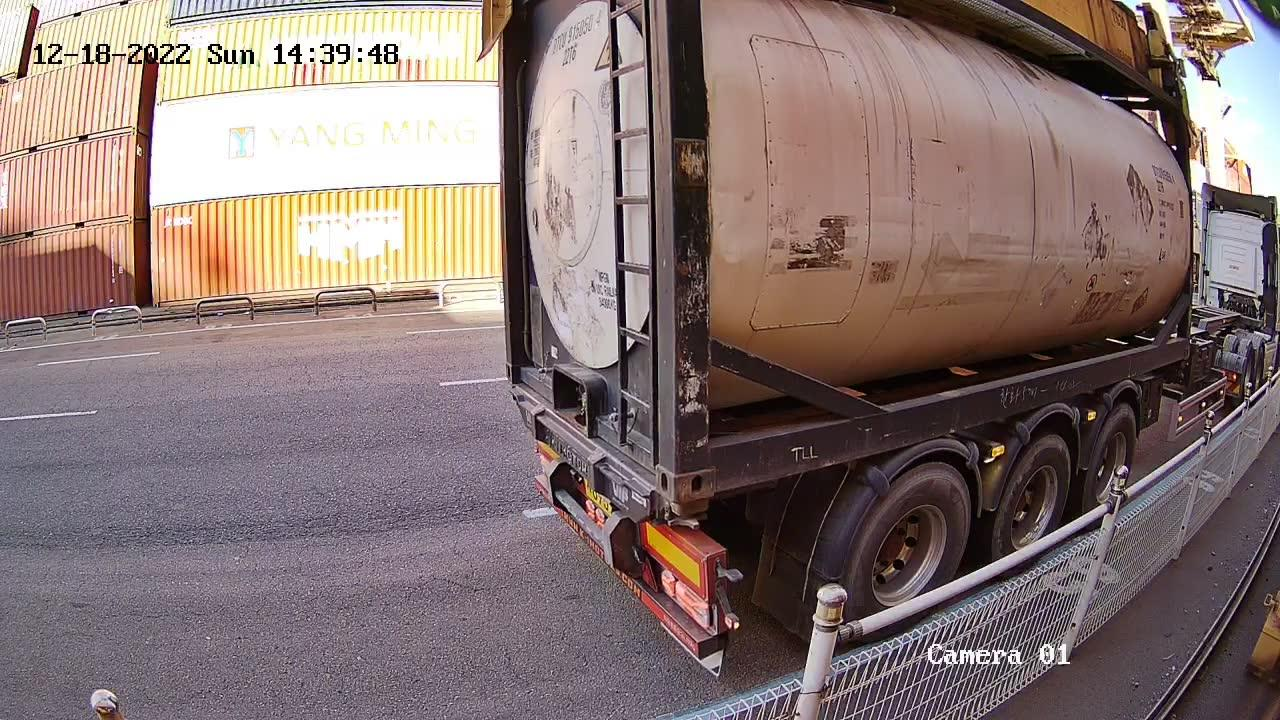Chassis: (511, 392, 662, 521)
Cone: (656, 500, 714, 530)
Hole_L: (675, 427, 750, 499), (505, 344, 534, 399)
Hole_R: (625, 423, 675, 500)
Tire: (851, 464, 972, 617), (997, 438, 1071, 557), (1085, 407, 1136, 504)
